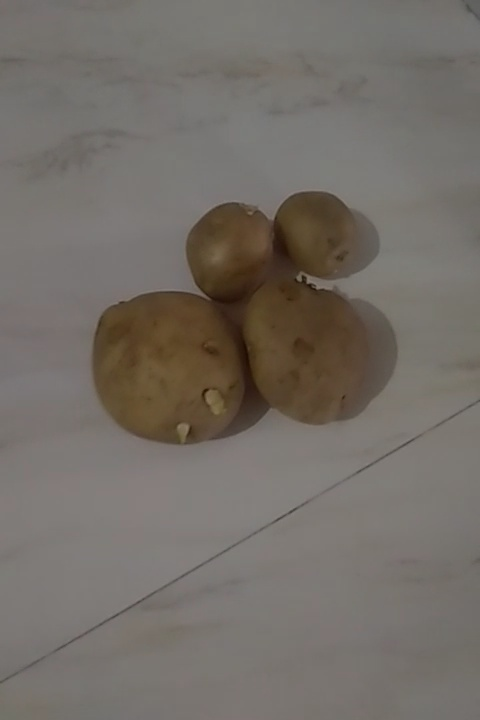potato: (80, 277, 241, 442), (245, 264, 367, 425), (270, 187, 376, 274), (185, 196, 270, 296)
